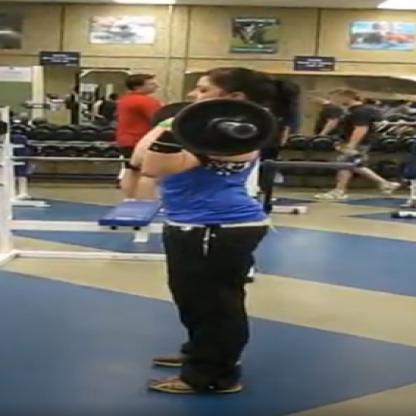Barbell: (230, 123, 263, 142)
